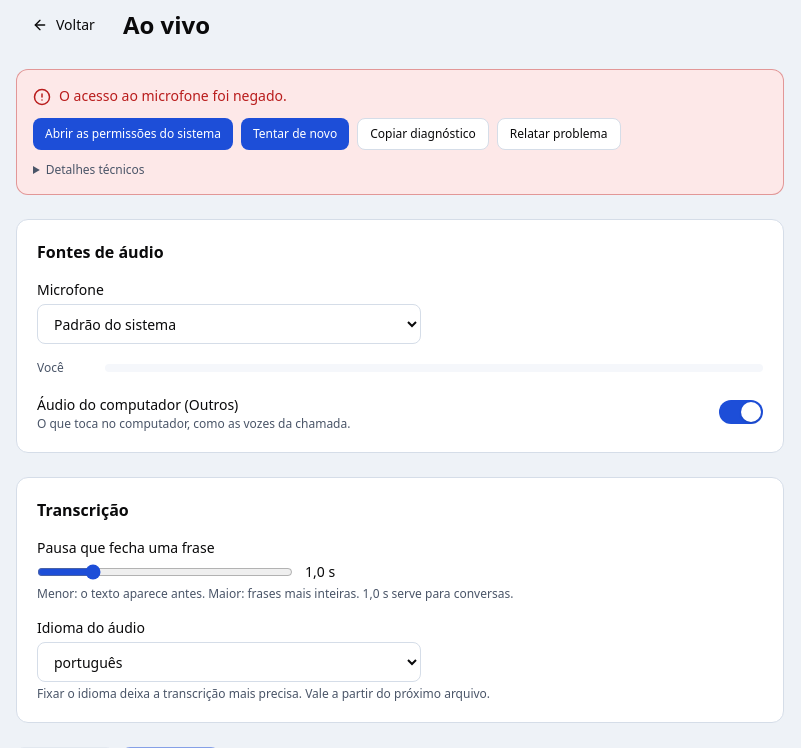
Ao vivo — preparar e testar › microfone negado no macOS: explica e abre as permissões do sistema
Expected: the text "O acesso ao microfone foi negado." is shown, x1=33 y1=86 x2=287 y2=106
Click the button "Abrir as permissões do sistema".
click(133, 134)  # box x1=33 y1=118 x2=233 y2=150
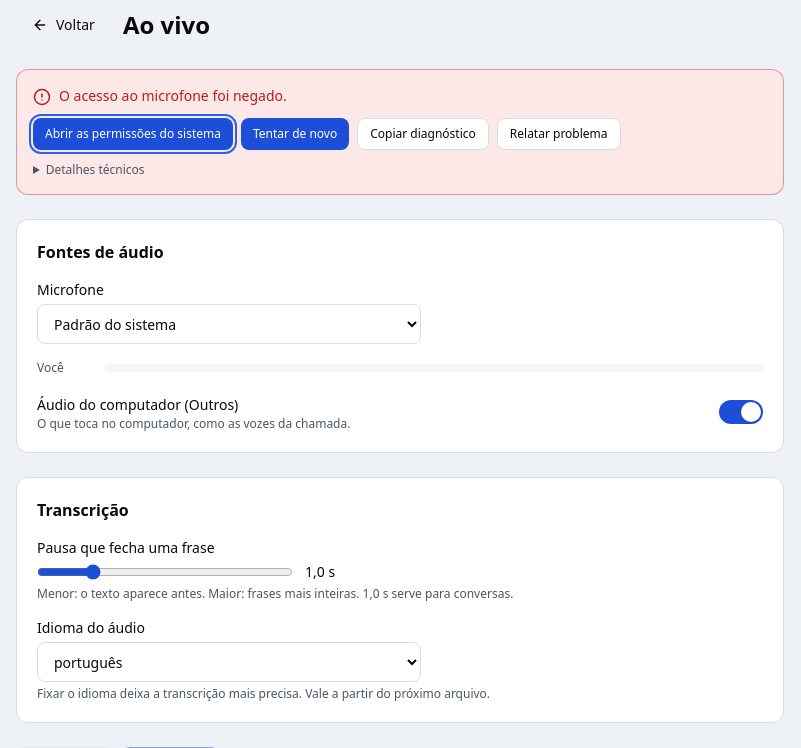
Click the button "Tentar de novo".
click(295, 134)  # box x1=241 y1=118 x2=349 y2=150
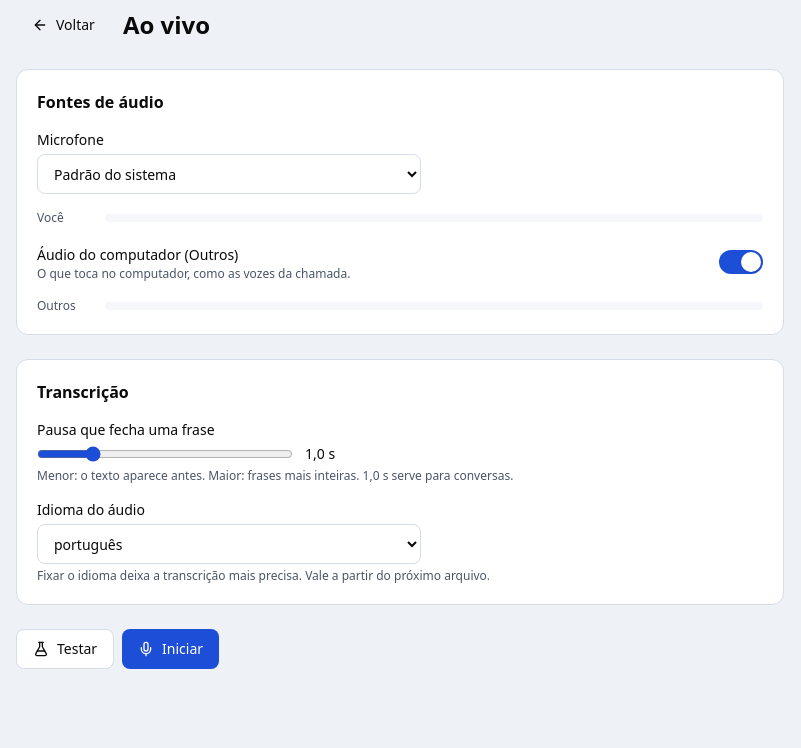
Expected: the text "O acesso ao microfone foi negado." is gone
